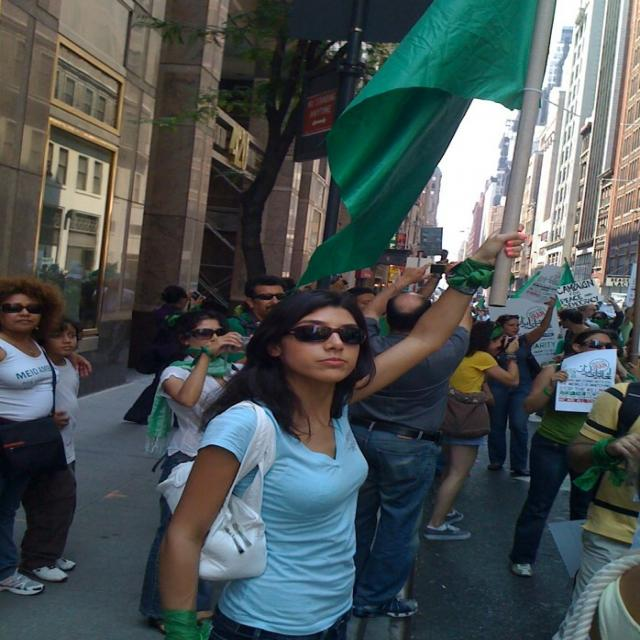Glasses: (266, 318, 369, 349), (0, 296, 51, 313), (570, 340, 619, 356), (177, 324, 226, 338), (252, 288, 291, 304)
